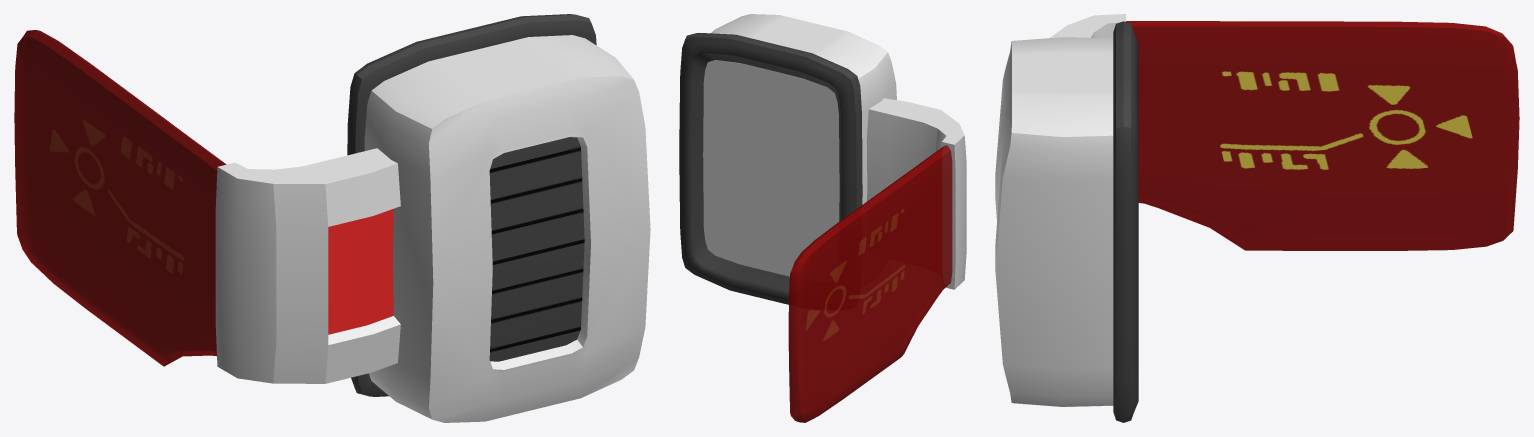
File: scouter_dragon_ball_z_a1cd37.glb
3 views of the same model, side by side, from view 1: azimuth 30°, elevation 25°; view 2: azimuth 150°, elevation 25°; view 3: azimuth 270°, elevation 25° (orthographic). The views are drawn at different scales.
Visible parts, largest first — view 1: Scouter; view 2: Scouter; view 3: Scouter.
Part boxes in pixels (x1=…): Scouter: x1=14, y1=14, x2=650, y2=422; Scouter: x1=679, y1=14, x2=966, y2=422; Scouter: x1=995, y1=14, x2=1519, y2=422.
Bounding box in the file's own units: 201 × 178 × 258.
5 materials, 5 textured.
